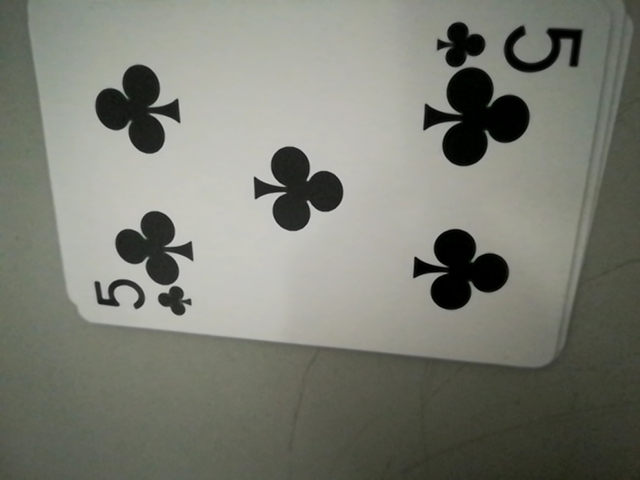mh 5: (433, 15, 586, 73), (86, 273, 198, 323)
